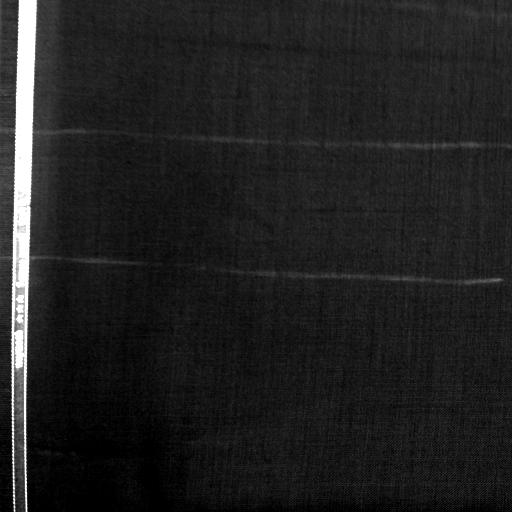fabric_broken_pick: (302, 196, 412, 226)
